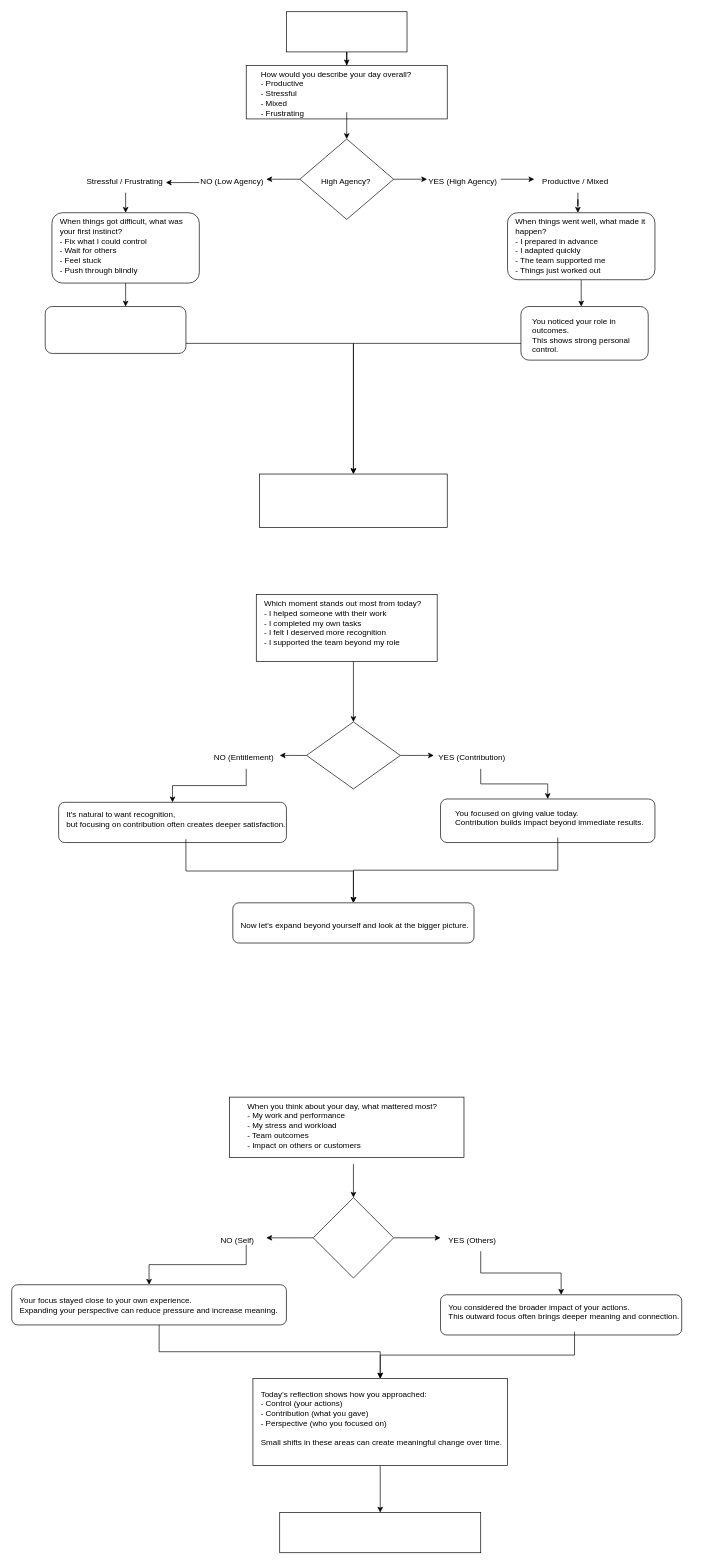
The diagram is 714 pixels wide and 1564 high, and some of its shapes have lost their labels. The shapes that lost their labels are listed below. From the top down, each one's centre as x and y in pixels, then its label:
At point (346, 31): "START Good evening. Let's reflect on your day.".
At point (115, 329): "Even in tough moments, you had choices. Recognizing them builds control.".
At point (353, 500): "Now let's shift from how you handled your day to what you contributed.".
At point (353, 755): "Contribution focused?".
At point (353, 1237): "Others-focused?".
At point (380, 1532): "END Good job reflecting today. See you tomorrow.".
